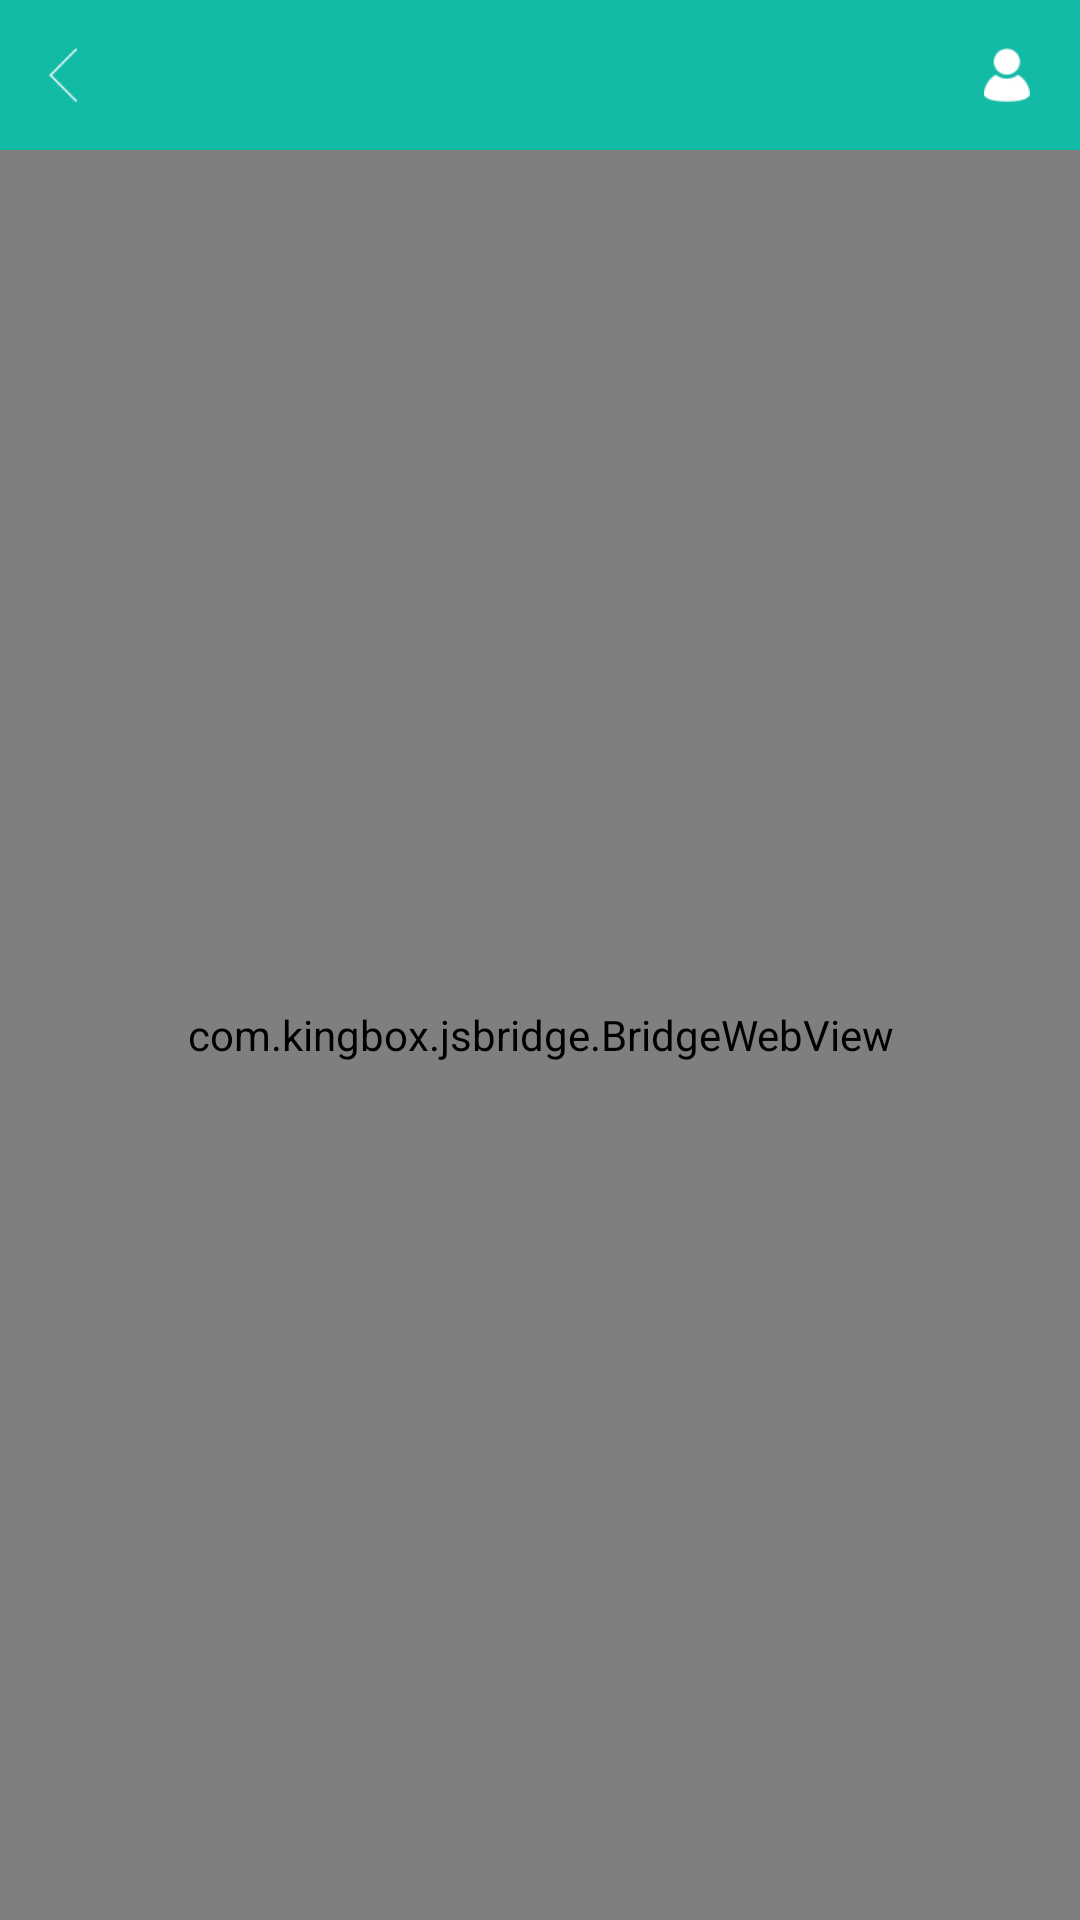

Where to tap for icons on this 1080w x 1920h app screen, as (x=x, y=y):
back: (x=63, y=75)
user: (x=1007, y=75)
